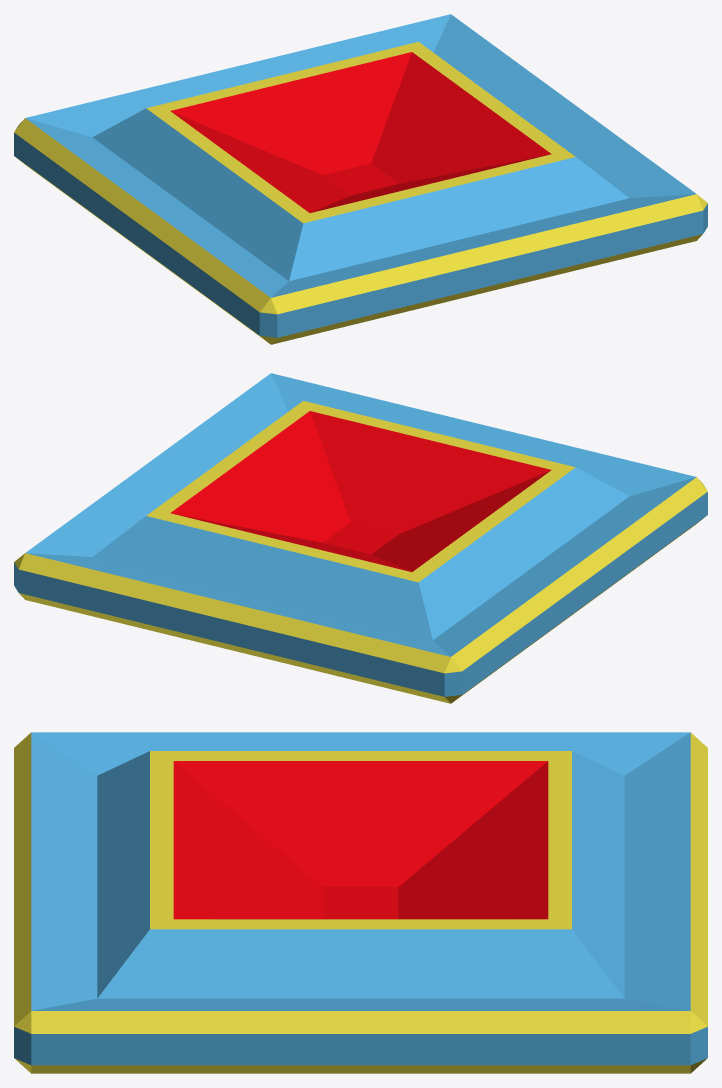
Rendered from station.fbx.
3 renders of one model, top to bottom at view 1: azimuth 30°, elevation 25°; view 2: azimuth 150°, elevation 25°; view 3: azimuth 270°, elevation 25°, orthographic. The views are drawn at different scales.
Parts seen in each view (by area): view 1: Cube; view 2: Cube; view 3: Cube.
Part boxes in pixels (<box>): Cube: <box>14,14,707,344</box>; Cube: <box>14,373,707,703</box>; Cube: <box>14,732,707,1073</box>.
Bounding box in the file's own units: 400 × 60 × 400.
